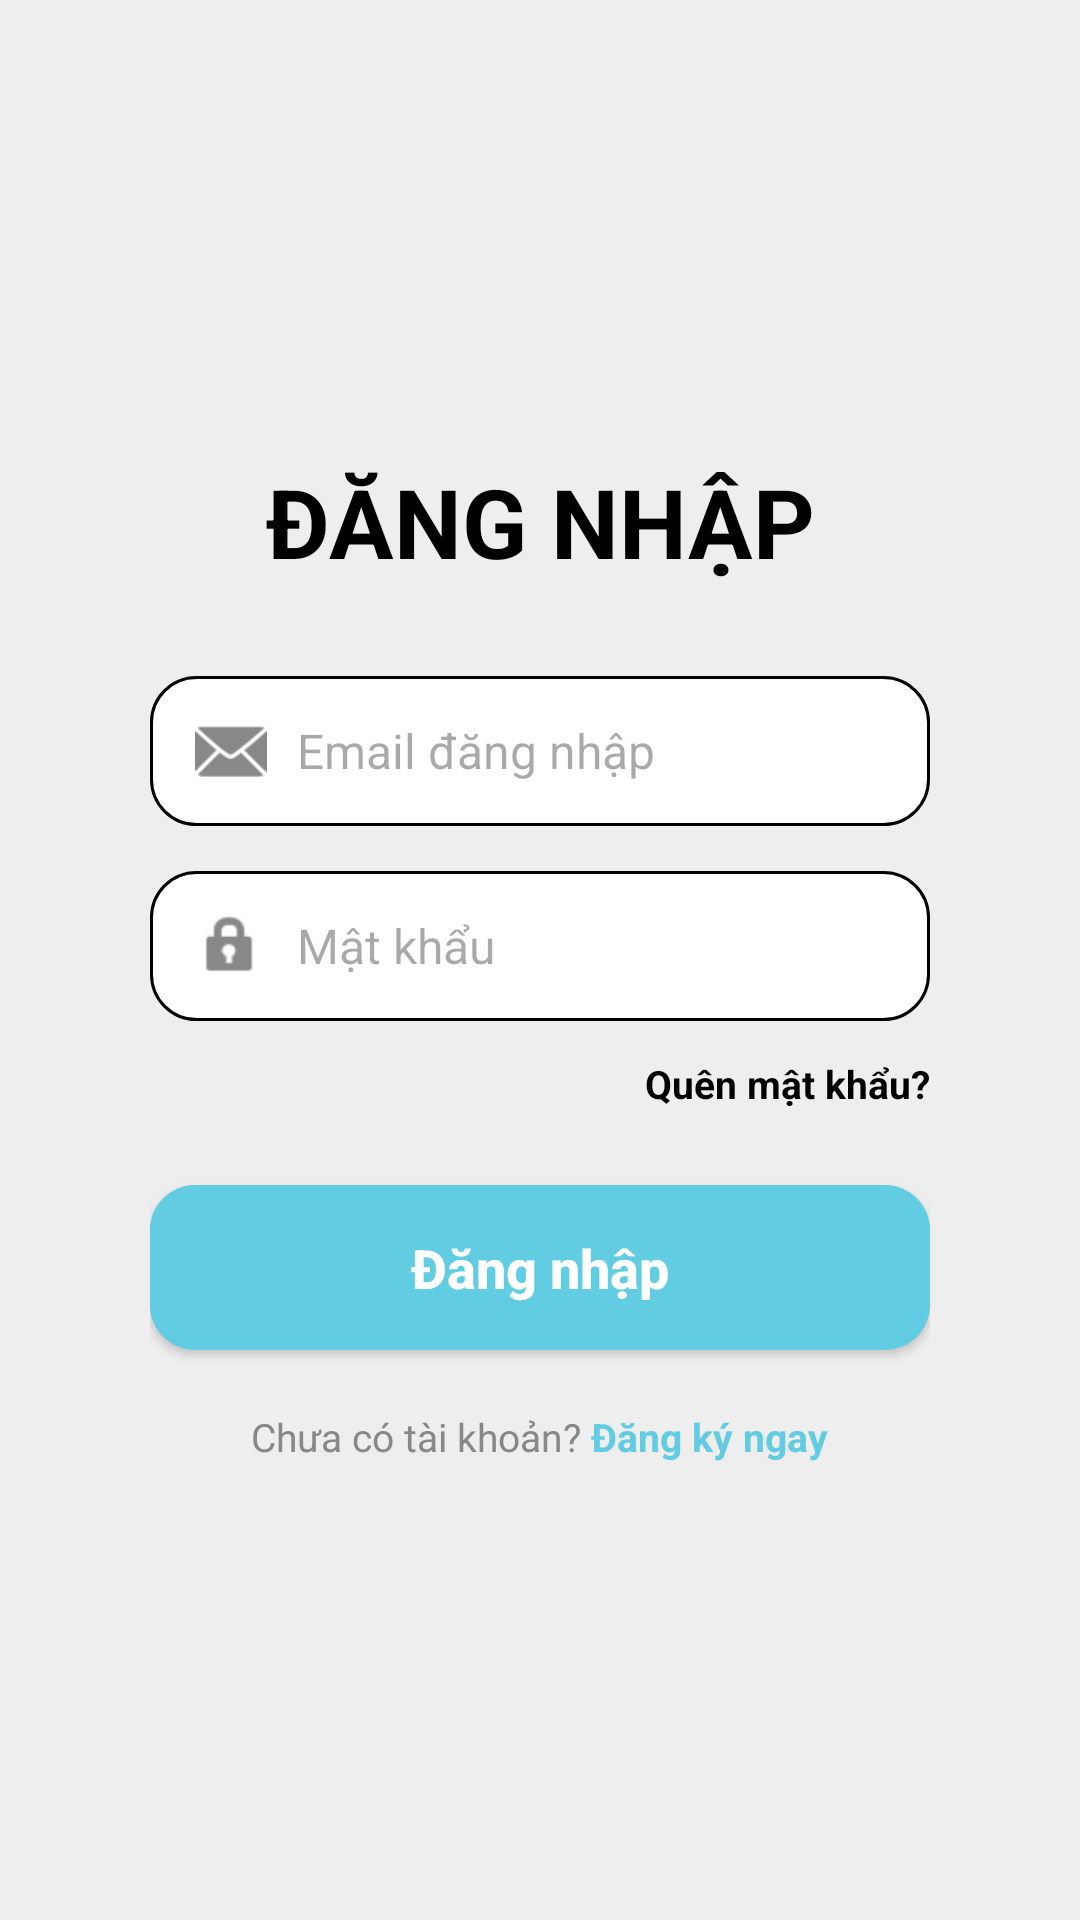

Screen size 1080 x 1920. Icon name, then its center in pixels as [x,y]:
lock idle: [229,943]
